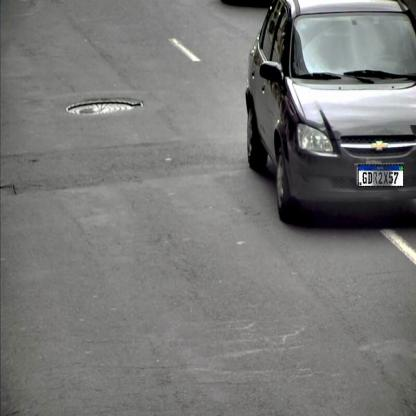PlacaM: (358, 164, 404, 188)
